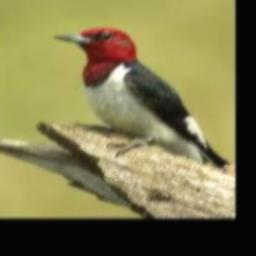Woodpecker: (53, 27, 230, 169)
